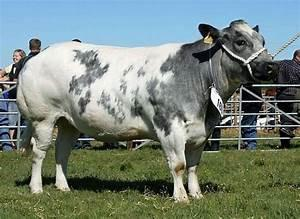cow: (14, 18, 276, 205)
